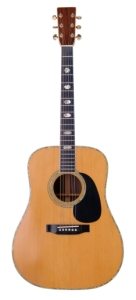guitar: (11, 6, 125, 290)
